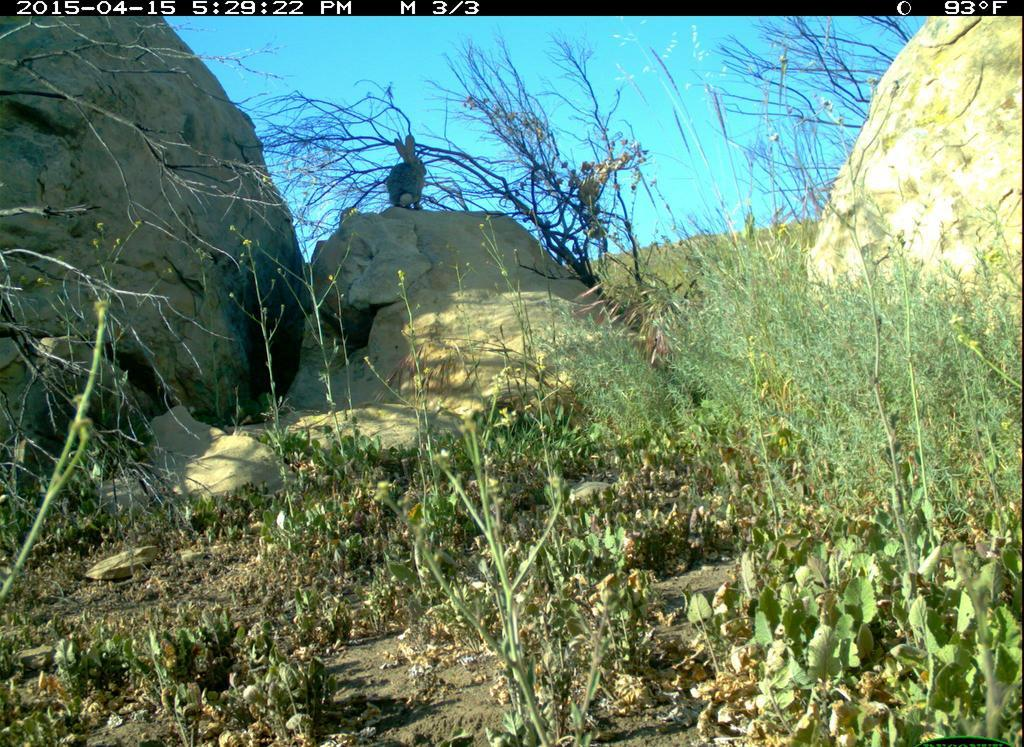rabbit: (381, 132, 434, 216)
